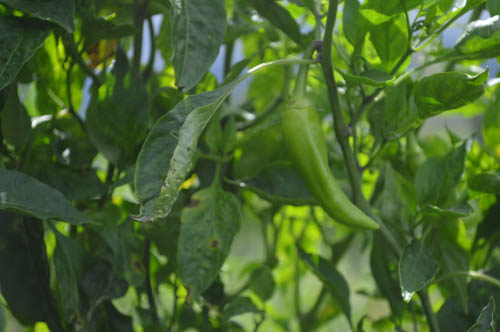ChiliPepper: (288, 103, 380, 233)
